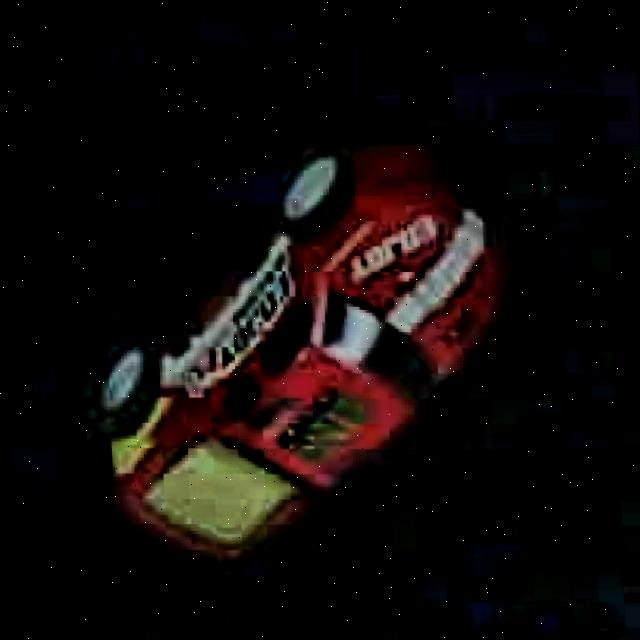car: (77, 125, 531, 583)
